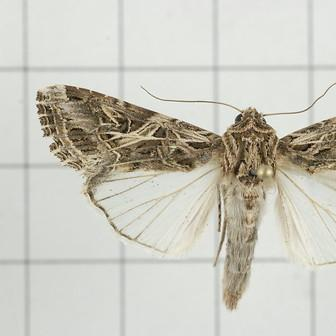Spodoptera litura: (35, 83, 336, 312)
